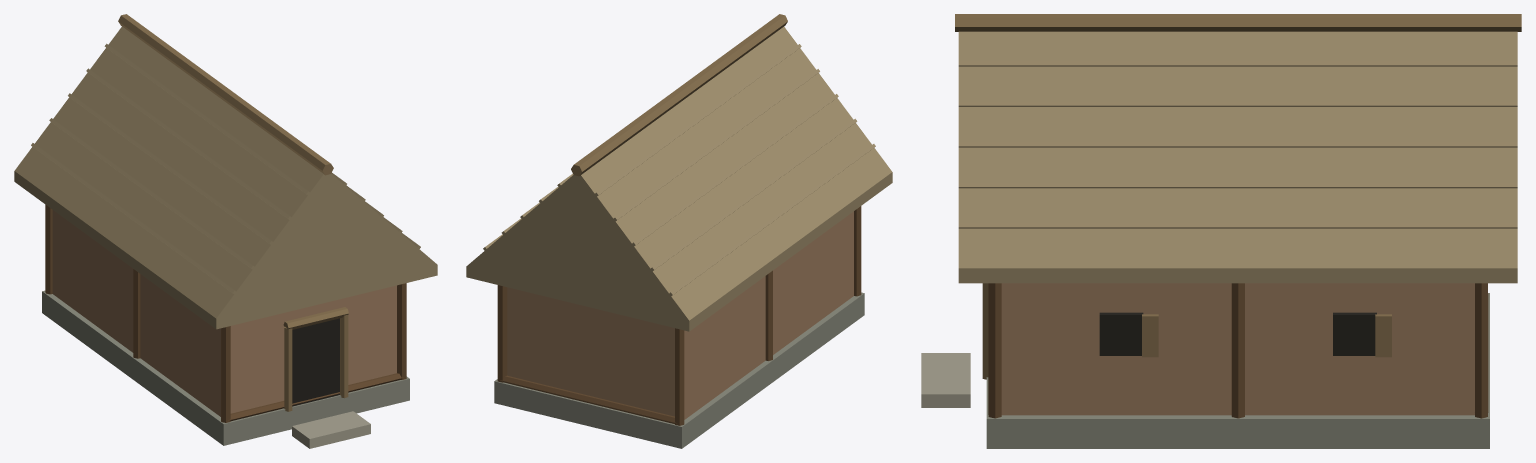
File: house_narrow.glb
3 renders of one model, left to right at view 1: azimuth 30°, elevation 25°; view 2: azimuth 150°, elevation 25°; view 3: azimuth 270°, elevation 25°, orthographic. The views are drawn at different scales.
Parts seen in each view (by area): view 1: house_narrow; view 2: house_narrow; view 3: house_narrow.
Part boxes in pixels (<box>): house_narrow: <box>14,14,437,448</box>; house_narrow: <box>466,14,892,448</box>; house_narrow: <box>921,14,1521,448</box>.
Size of the model in its own units: 4.69 by 5.43 by 7.95.
